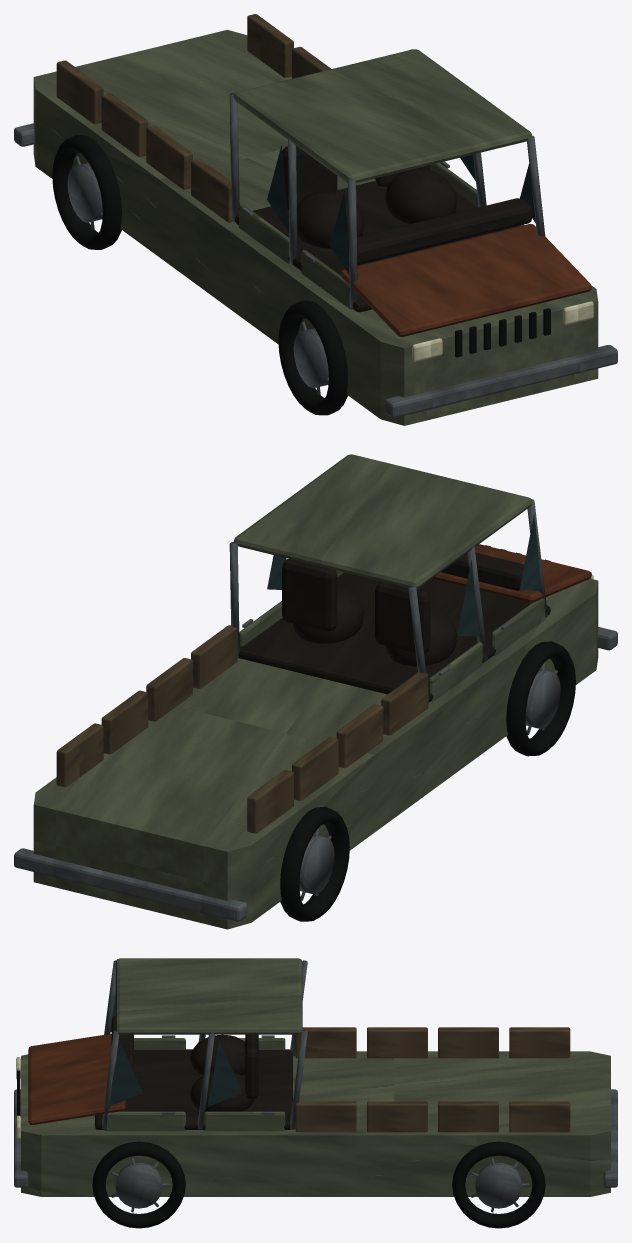
File: truck_wreck.glb
The picture shows the model from 3 angles, top to bottom: view 1: azimuth 30°, elevation 25°; view 2: azimuth 150°, elevation 25°; view 3: azimuth 270°, elevation 25°; orthographic projection. The views are drawn at different scales.
Visible parts, largest first — view 1: Dented_body_shell.001, Roof.001, Damaged_hood.001, Dashboard.001, Treaded_tire.004, Bumper.002, Treaded_tire.005, Cabin_floor.001, Front_seat.003, Front_seat.002, Bed_side.002, Bed_side.003 (+18 smaller); view 2: Dented_body_shell.001, Roof.001, Cabin_floor.001, Bumper.003, Treaded_tire.005, Treaded_tire.004, Seat_back.003, Seat_back.002, Damaged_hood.001, Bed_side.007, Bed_side.003, Bed_side.001 (+18 smaller); view 3: Dented_body_shell.001, Roof.001, Damaged_hood.001, Cabin_floor.001, Treaded_tire.007, Treaded_tire.006, Bed_side.003, Bed_side.007, Bed_side.004, Bed_side.002, Bed_side.001, Bed_side.006 (+19 smaller).
Part boxes in pixels (x1,y1,x2,y2): Dented_body_shell.001: (33,30,598,425); Roof.001: (233,49,532,182); Damaged_hood.001: (340,224,591,336); Dashboard.001: (348,198,531,264); Treaded_tire.004: (278,300,347,415); Bumper.002: (384,345,617,417); Treaded_tire.005: (52,135,121,249); Cabin_floor.001: (235,181,506,312); Front_seat.003: (385,168,456,223); Front_seat.002: (297,191,363,248); Bed_side.002: (101,93,148,156); Bed_side.003: (56,60,103,124); Dented_body_shell.001: (33,578,598,929); Roof.001: (233,454,532,588); Cabin_floor.001: (238,572,550,701); Bumper.003: (14,848,247,921); Treaded_tire.005: (280,807,349,921); Treaded_tire.004: (506,641,575,756); Seat_back.003: (282,559,337,631); Seat_back.002: (375,581,430,653); Damaged_hood.001: (432,544,591,602); Bed_side.007: (56,723,103,787); Bed_side.003: (247,770,293,833); Bed_side.001: (336,704,383,767); Dented_body_shell.001: (21,1051,610,1196); Roof.001: (115,958,302,1034); Damaged_hood.001: (28,1033,125,1124); Cabin_floor.001: (95,1049,292,1129); Treaded_tire.007: (452,1141,545,1228); Treaded_tire.006: (92,1141,185,1228); Bed_side.003: (509,1027,570,1058); Bed_side.007: (509,1101,570,1132); Bed_side.004: (295,1101,356,1132); Bed_side.002: (438,1027,498,1058); Bed_side.001: (367,1027,427,1058); Bed_side.006: (438,1101,498,1132).
Bounding box in the file's own units: 2.21 × 2.07 × 5.94.
8 materials, 8 textured.
